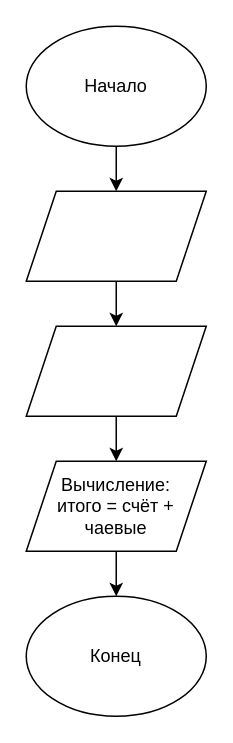
This 233x743 diagram has some shape labels left out. Each missing label, with the centre of its shape:
"Ввод: процент чаевых" belongs at point (115, 235).
"Вычисление: чаевые = счёт x процент / 100" belongs at point (115, 370).
